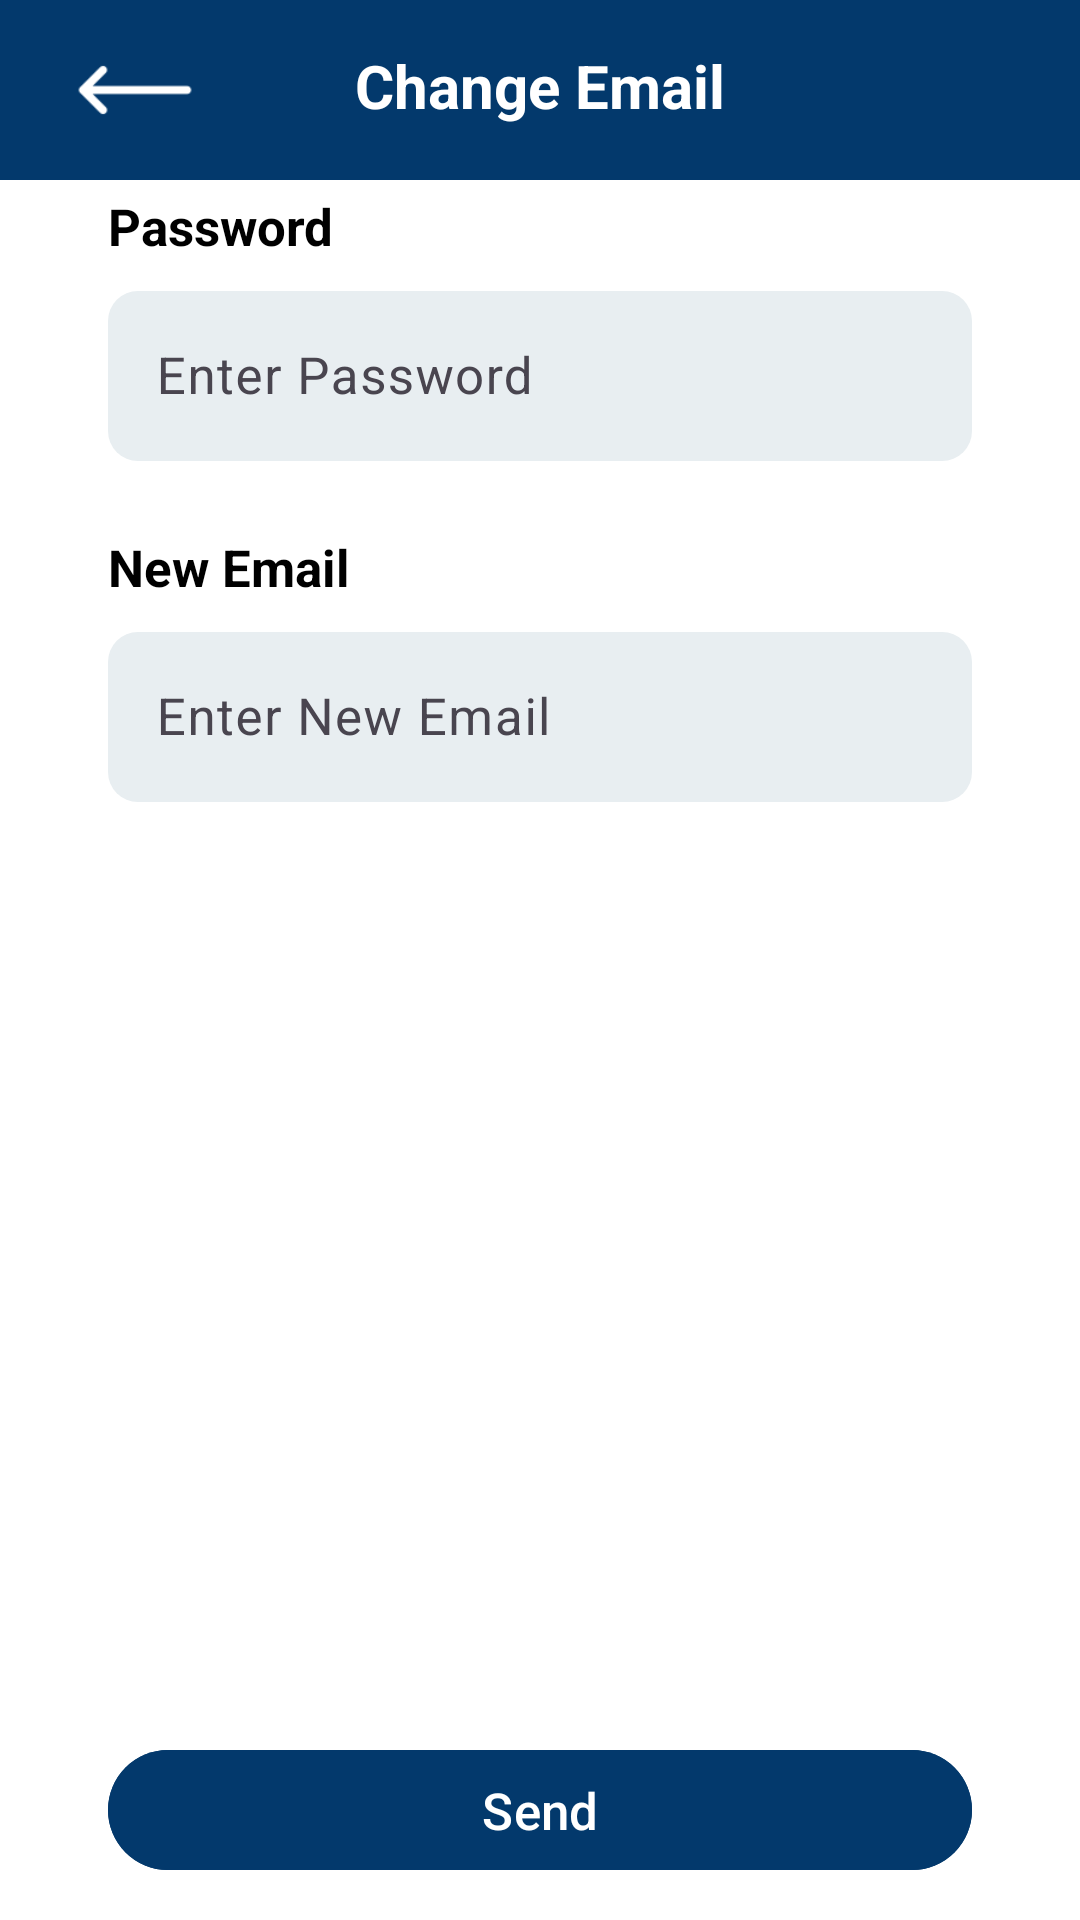

Icon click points for this 1080 × 1920 phone screenshot, format [x,y]:
back arrow: [135,90]
